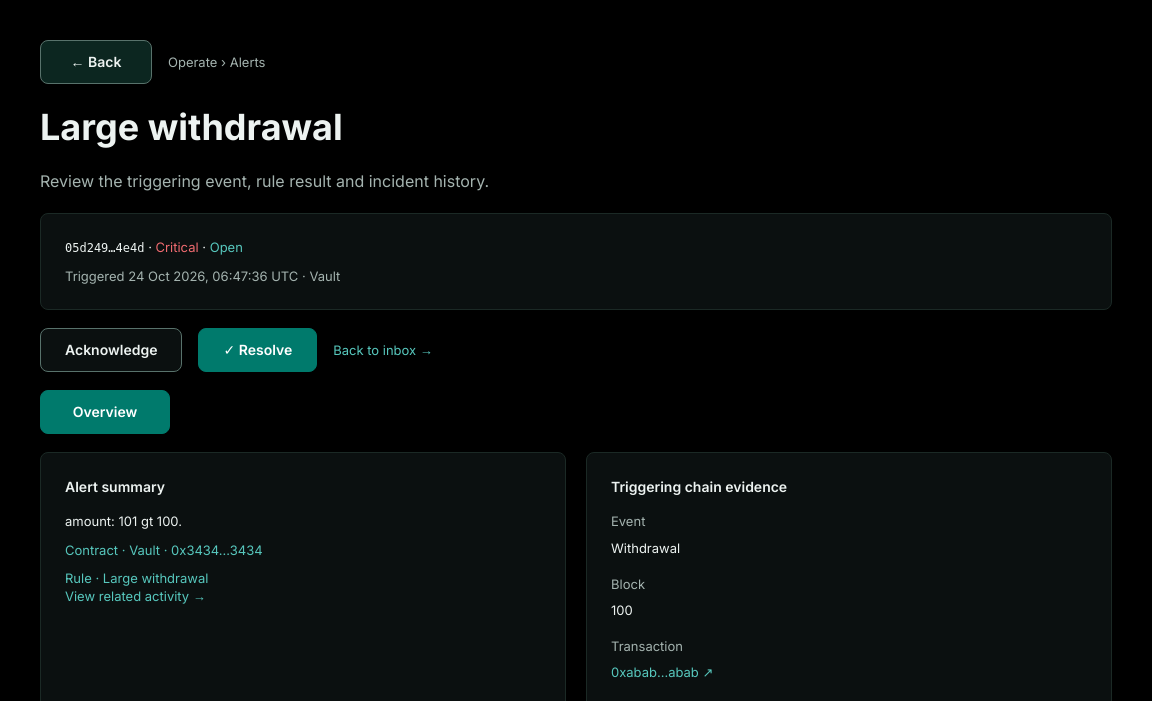
it: M3 API-backed UI › acknowledges then resolves using actual API mutation requests
Click the button "Acknowledge": (111, 350) 40,328 -> 182,372
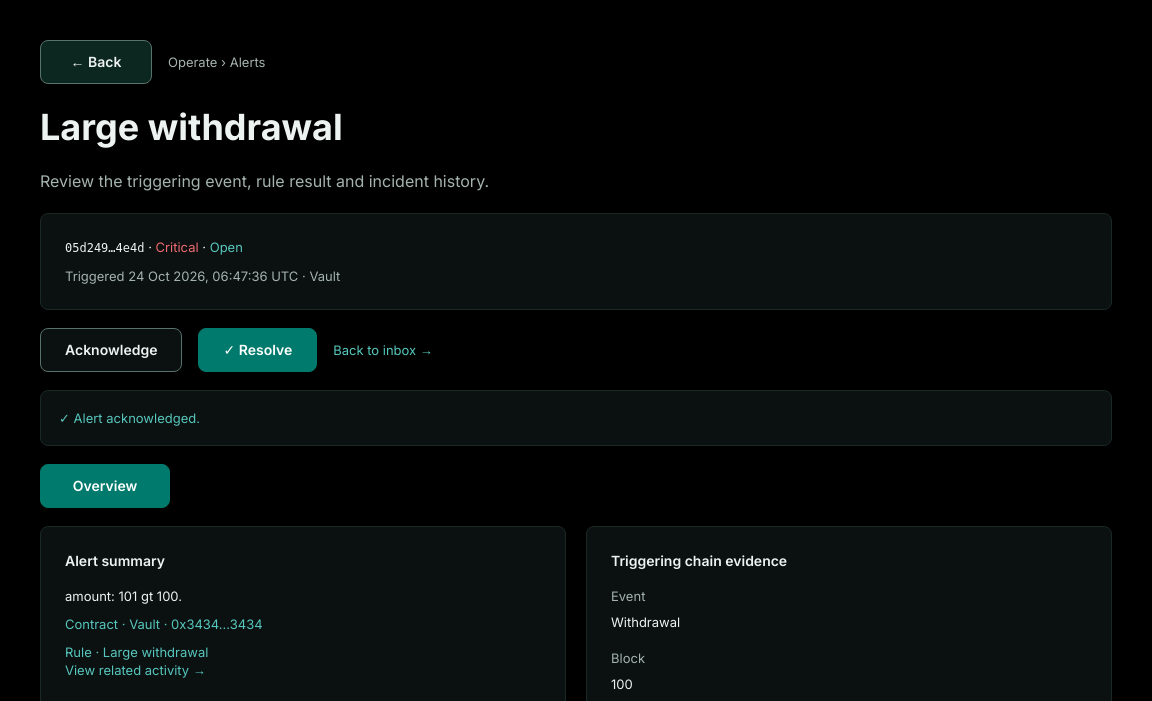
Check: the text "✓ Alert acknowledged." is shown, box 40,390 -> 1112,446
Click the button "✓ Resolve": (258, 350) 198,328 -> 317,372
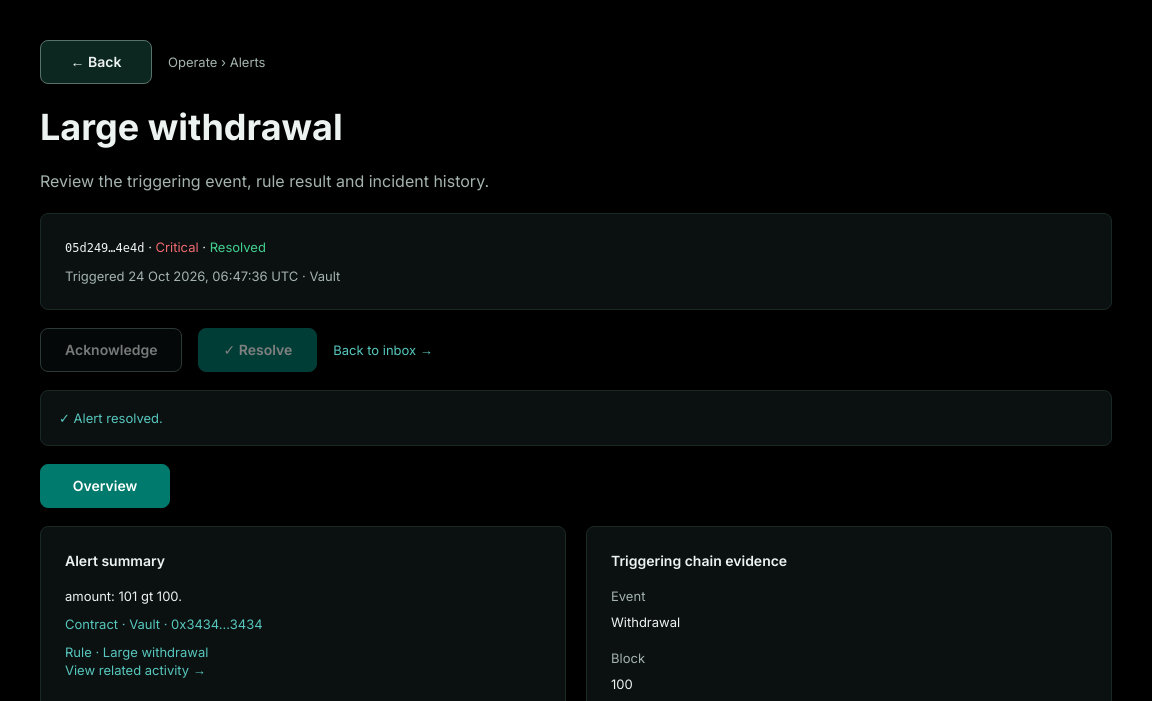
Check: the text "✓ Alert resolved." is shown, box 40,390 -> 1112,446
